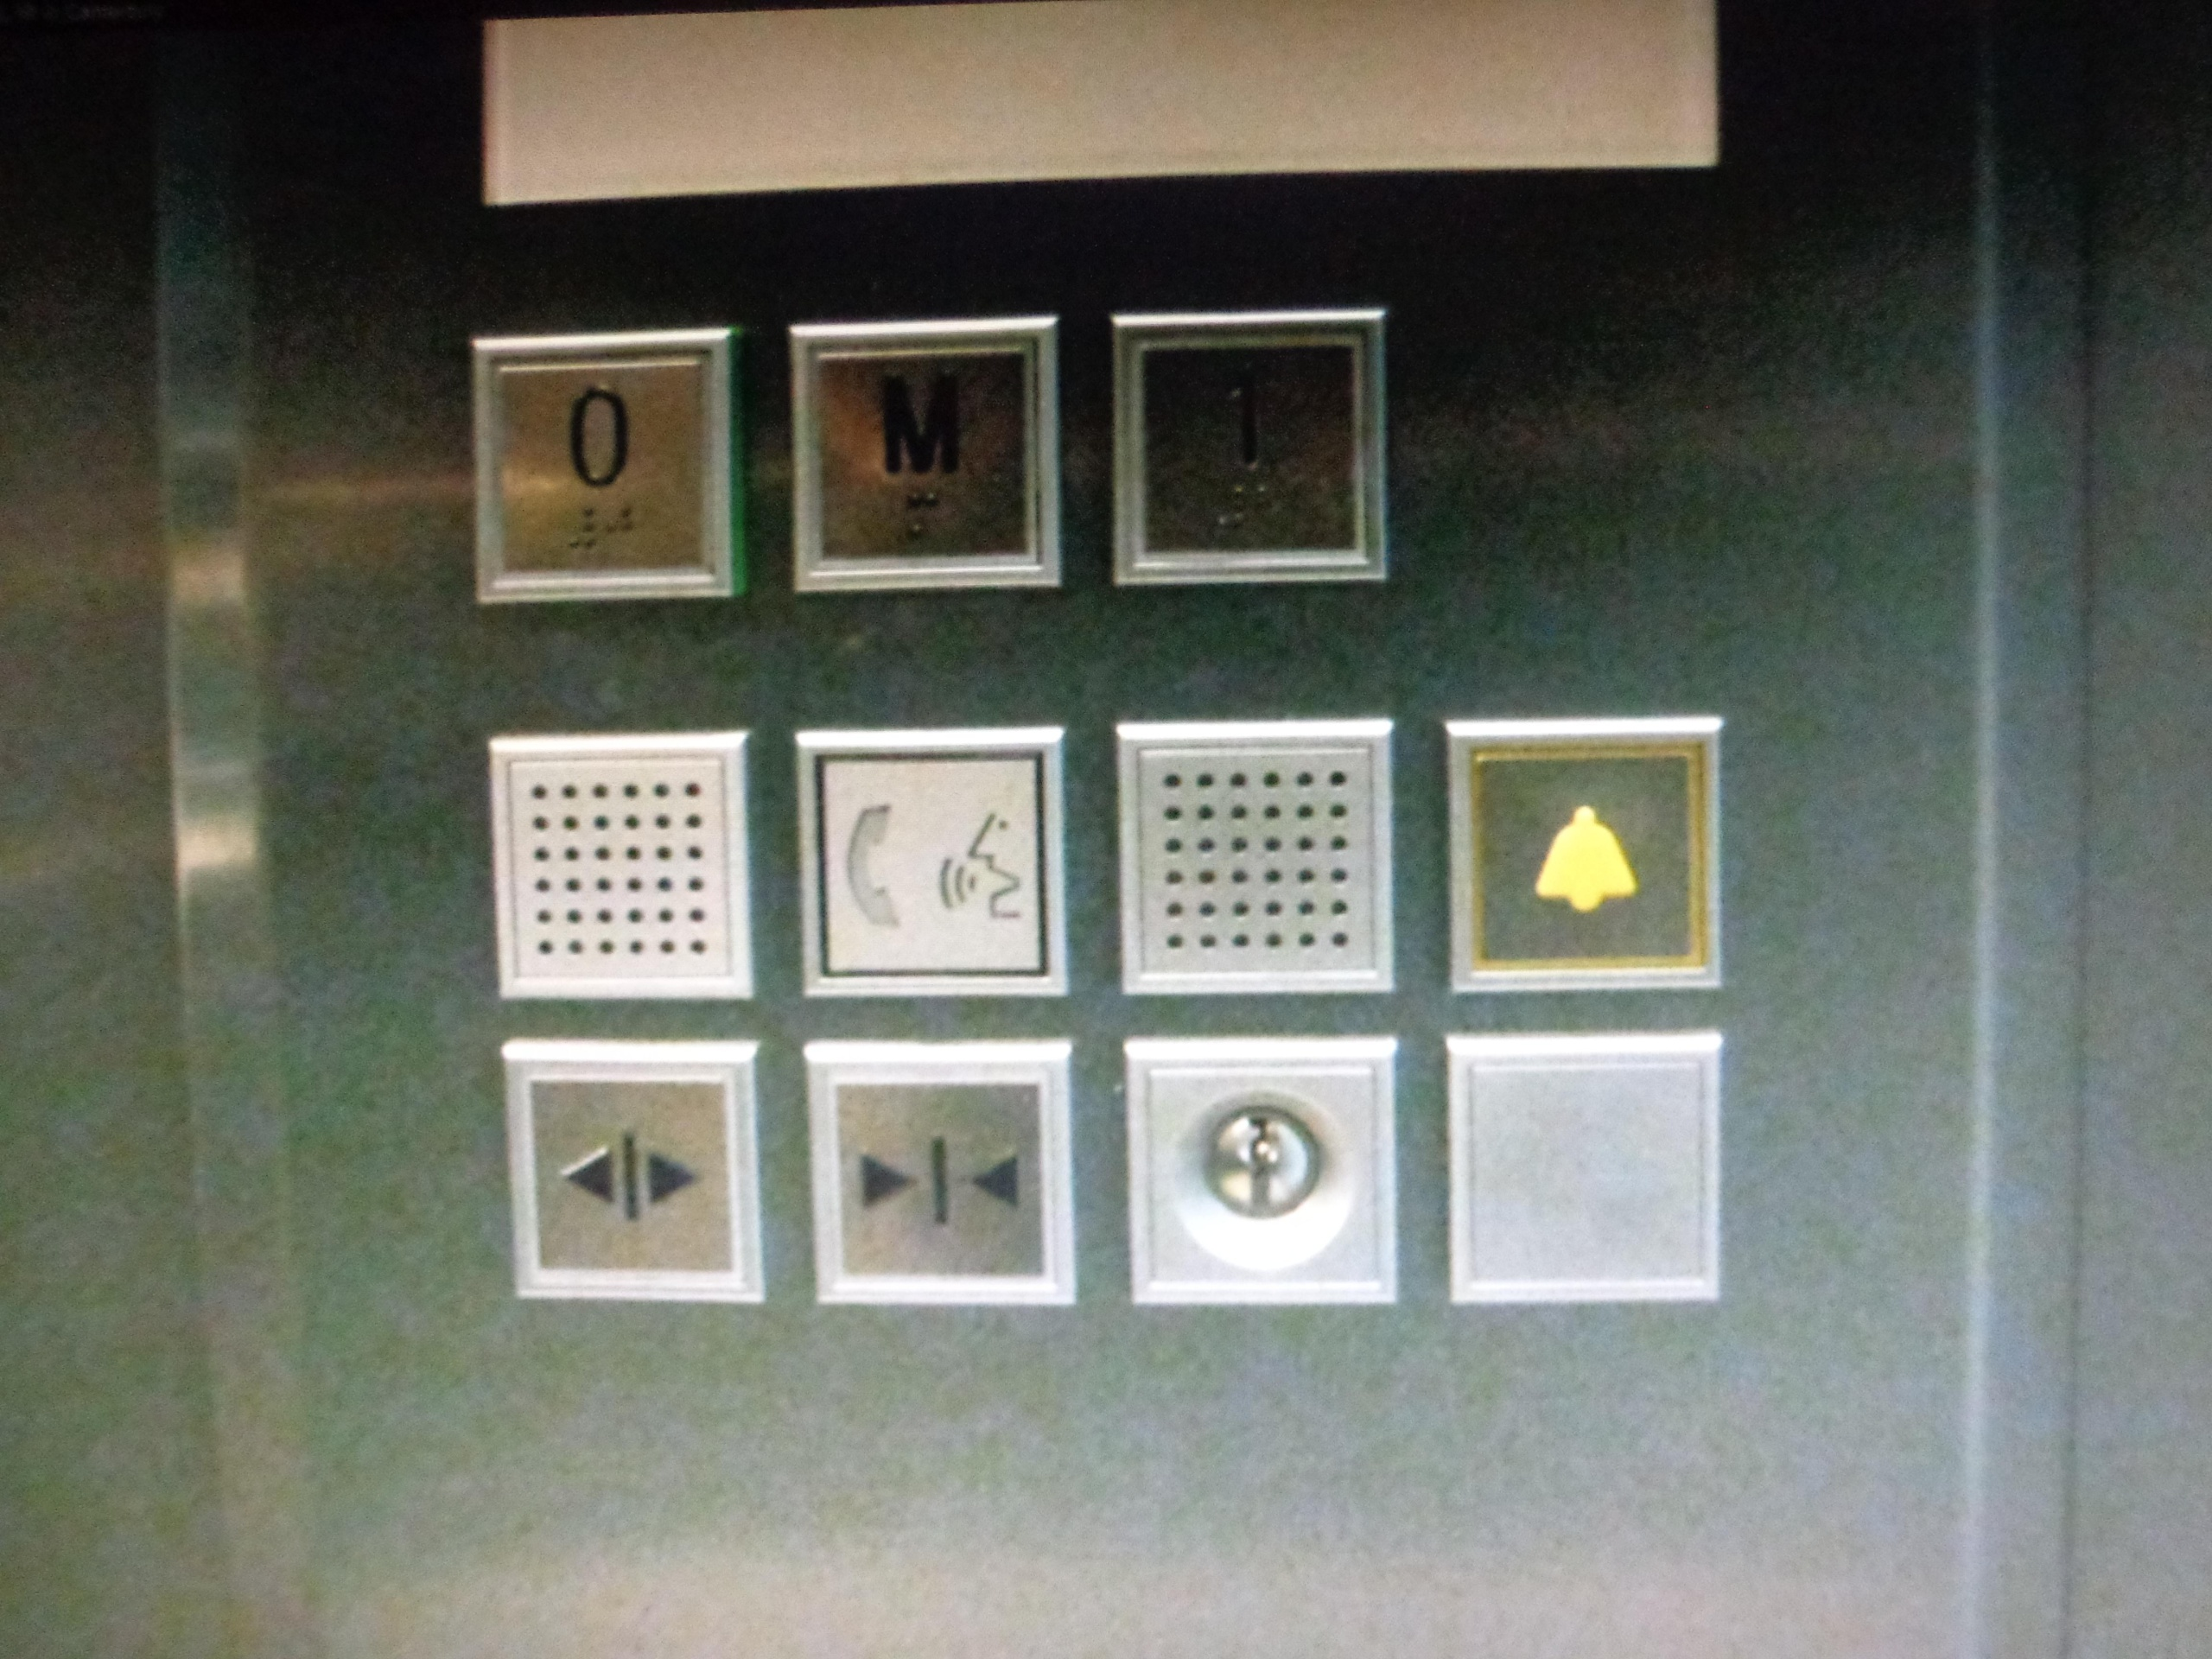0: (467, 333, 742, 612)
1: (1113, 310, 1393, 582)
M: (786, 321, 1069, 591)
alarm: (1446, 718, 1717, 992)
bt_keyhole: (1125, 1040, 1400, 1305)
call: (792, 727, 1069, 992)
close: (803, 1040, 1078, 1312)
empty: (1433, 1019, 1737, 1328)
open: (493, 1042, 768, 1310)
speaker: (475, 718, 761, 1014), (1113, 713, 1397, 1009)
